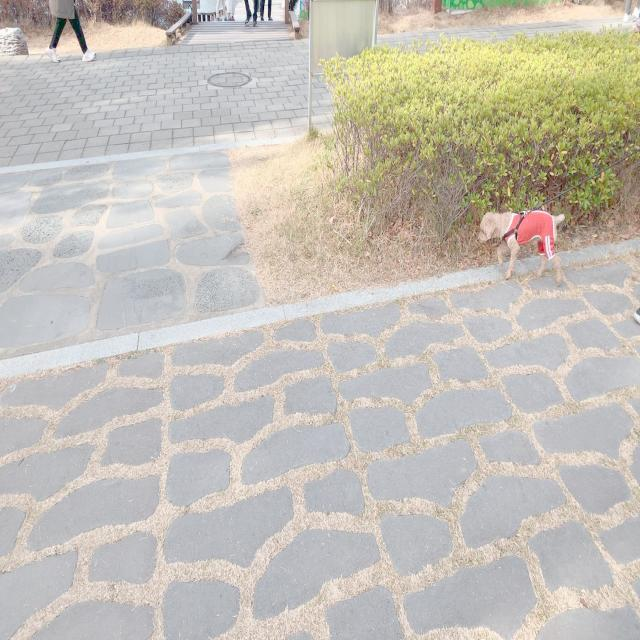Dog: (475, 202, 567, 286)
